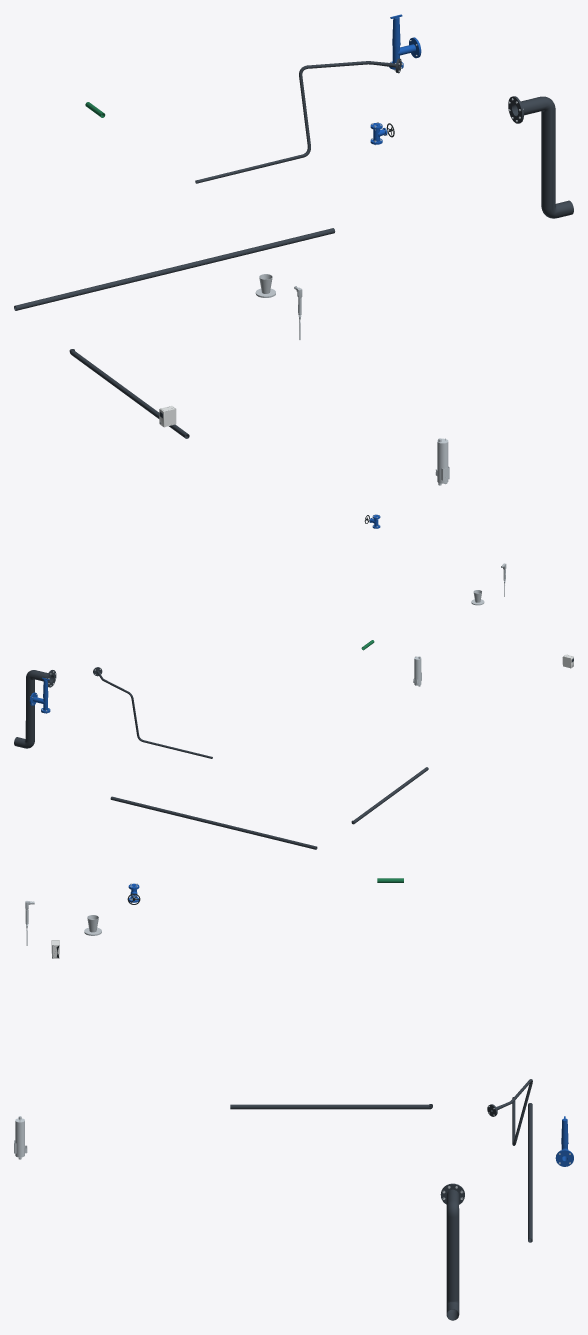
3 views of the same model, one above another, from view 1: azimuth 30°, elevation 25°; view 2: azimuth 150°, elevation 25°; view 3: azimuth 270°, elevation 25° (orthographic). The views are drawn at different scales.
Parts seen in each view (by area): view 1: bdv_water_drain / dark, bottom_discharge / dark, tds_without_fv / dark, bottom_piping / dark, flash_steam_common / blue; view 2: bdv_water_drain / dark, bottom_discharge / dark, tds_without_fv / dark; view 3: bdv_water_drain / dark, bottom_piping / dark, bottom_discharge / dark, tds_without_fv / dark.
Boxes of the visible parts, box(x1,y1,x2,y2) form: bdv_water_drain / dark: box(508, 96, 573, 218); bottom_discharge / dark: box(14, 228, 335, 310); tds_without_fv / dark: box(195, 58, 401, 183); bottom_piping / dark: box(69, 349, 189, 438); flash_steam_common / blue: box(389, 14, 421, 69); bdv_water_drain / dark: box(14, 670, 56, 748); bottom_discharge / dark: box(110, 796, 317, 849); tds_without_fv / dark: box(93, 667, 212, 758); bdv_water_drain / dark: box(440, 1183, 464, 1320); bottom_piping / dark: box(230, 1104, 432, 1109); bottom_discharge / dark: box(528, 1103, 532, 1242); tds_without_fv / dark: box(487, 1079, 532, 1145).
Bounding box in the file's own units: 5.8 × 2.8 × 5.06.
